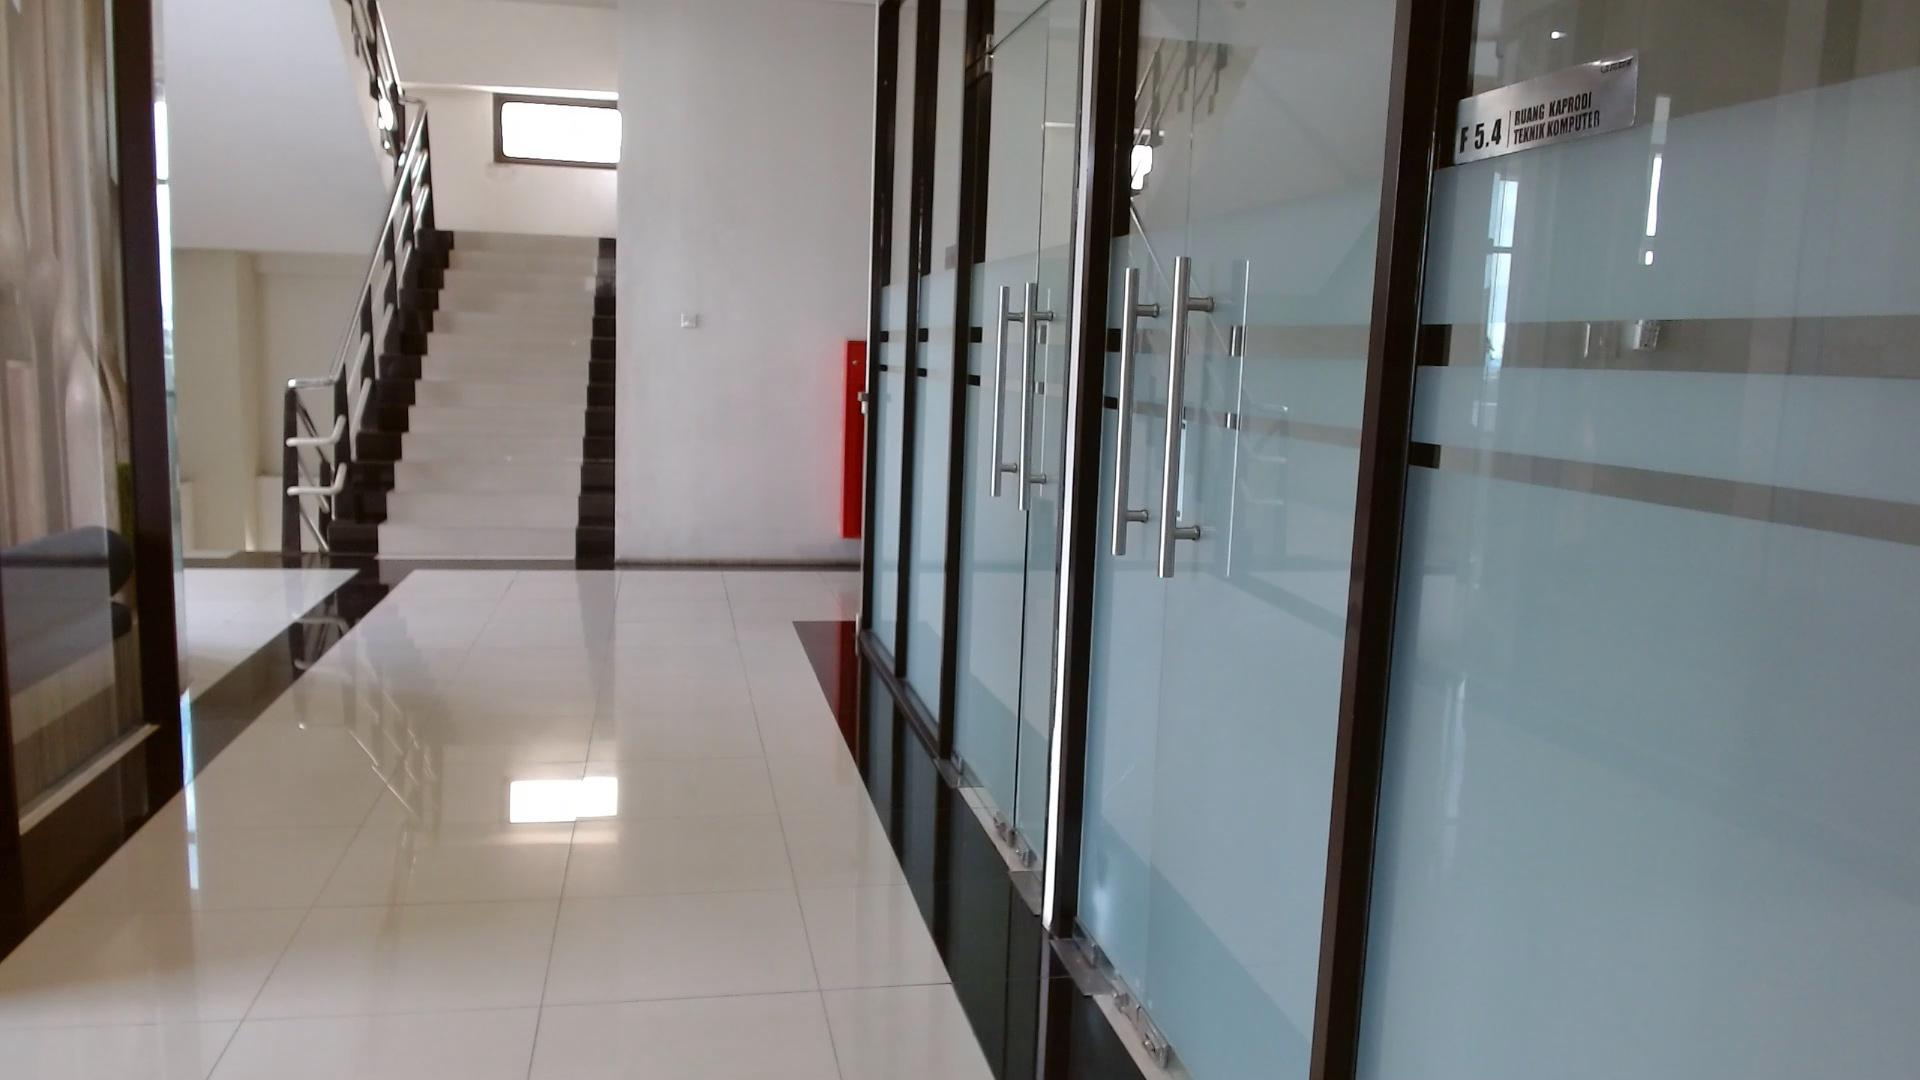plate: (1452, 47, 1640, 166)
